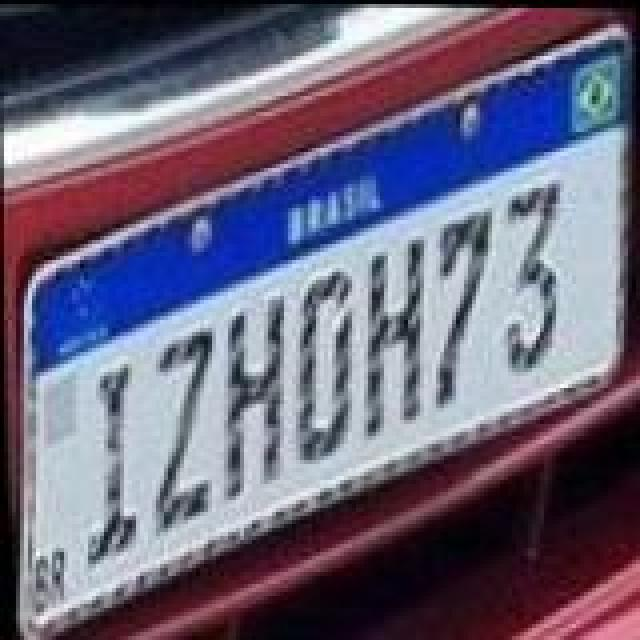3: (496, 174, 576, 374)
7: (426, 202, 502, 414)
D: (286, 262, 362, 466)
H: (356, 224, 436, 436), (216, 288, 292, 504)
I: (76, 356, 140, 568)
Z: (142, 320, 222, 536)
